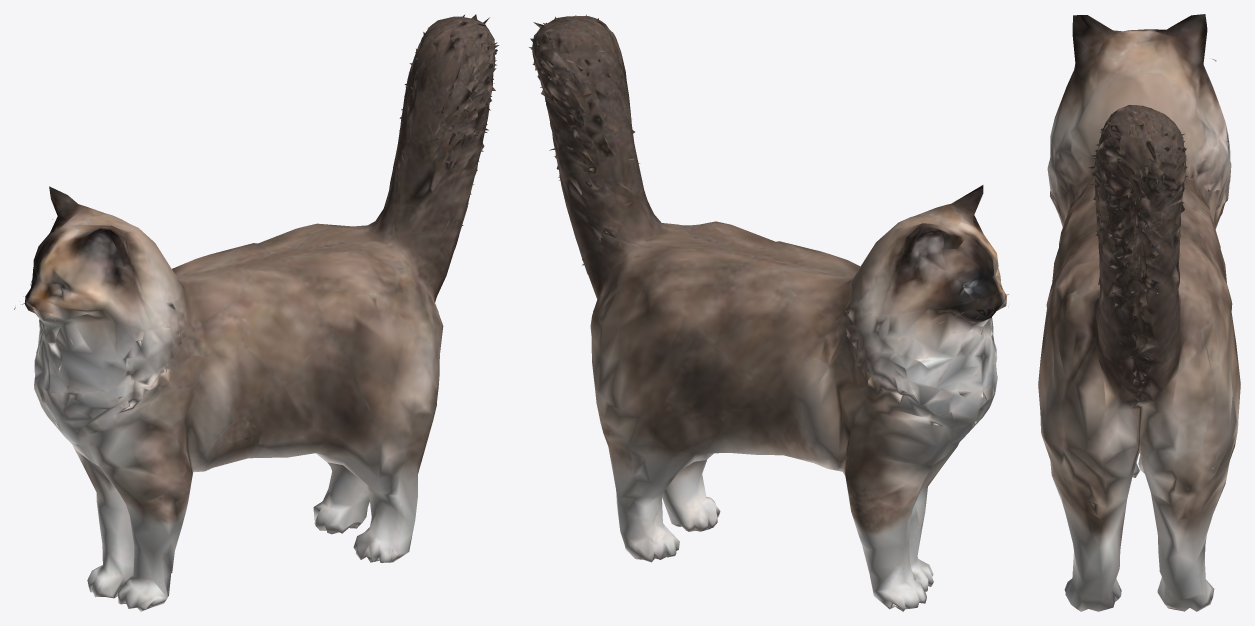
File: MIETTE-lo.glb
3 renders of one model, left to right at view 1: azimuth 30°, elevation 25°; view 2: azimuth 150°, elevation 25°; view 3: azimuth 270°, elevation 25°, orthographic. The views are drawn at different scales.
Visible parts, largest first — view 1: tripo_node_31e5bddf-21a9-478f-aa72-105202114a3c; view 2: tripo_node_31e5bddf-21a9-478f-aa72-105202114a3c; view 3: tripo_node_31e5bddf-21a9-478f-aa72-105202114a3c.
Part boxes in pixels (box(x1,y1,x2,y2)): tripo_node_31e5bddf-21a9-478f-aa72-105202114a3c: box(14, 14, 498, 611); tripo_node_31e5bddf-21a9-478f-aa72-105202114a3c: box(529, 14, 1009, 611); tripo_node_31e5bddf-21a9-478f-aa72-105202114a3c: box(1038, 14, 1240, 611).
Size of the model in its own units: 0.9779 by 0.9921 by 0.3339.
1 material, 1 textured.
